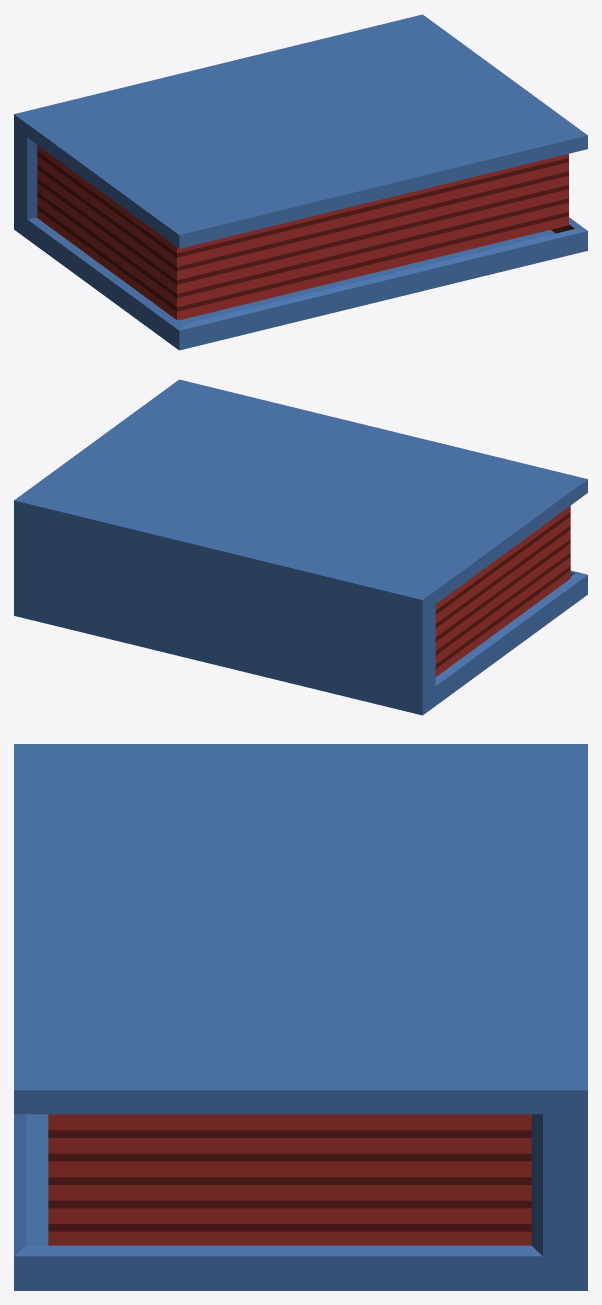
Rendered from Book.fbx.
3 renders of one model, top to bottom at view 1: azimuth 30°, elevation 25°; view 2: azimuth 150°, elevation 25°; view 3: azimuth 270°, elevation 25°, orthographic. The views are drawn at different scales.
Parts seen in each view (by area): view 1: Cube.001; view 2: Cube.001; view 3: Cube.001.
Part boxes in pixels (left/top/right/bottom): Cube.001: left=14, top=14, right=587, bottom=350; Cube.001: left=14, top=379, right=587, bottom=715; Cube.001: left=14, top=744, right=587, bottom=1290.
Size of the model in its own units: 548 by 384 by 148.
